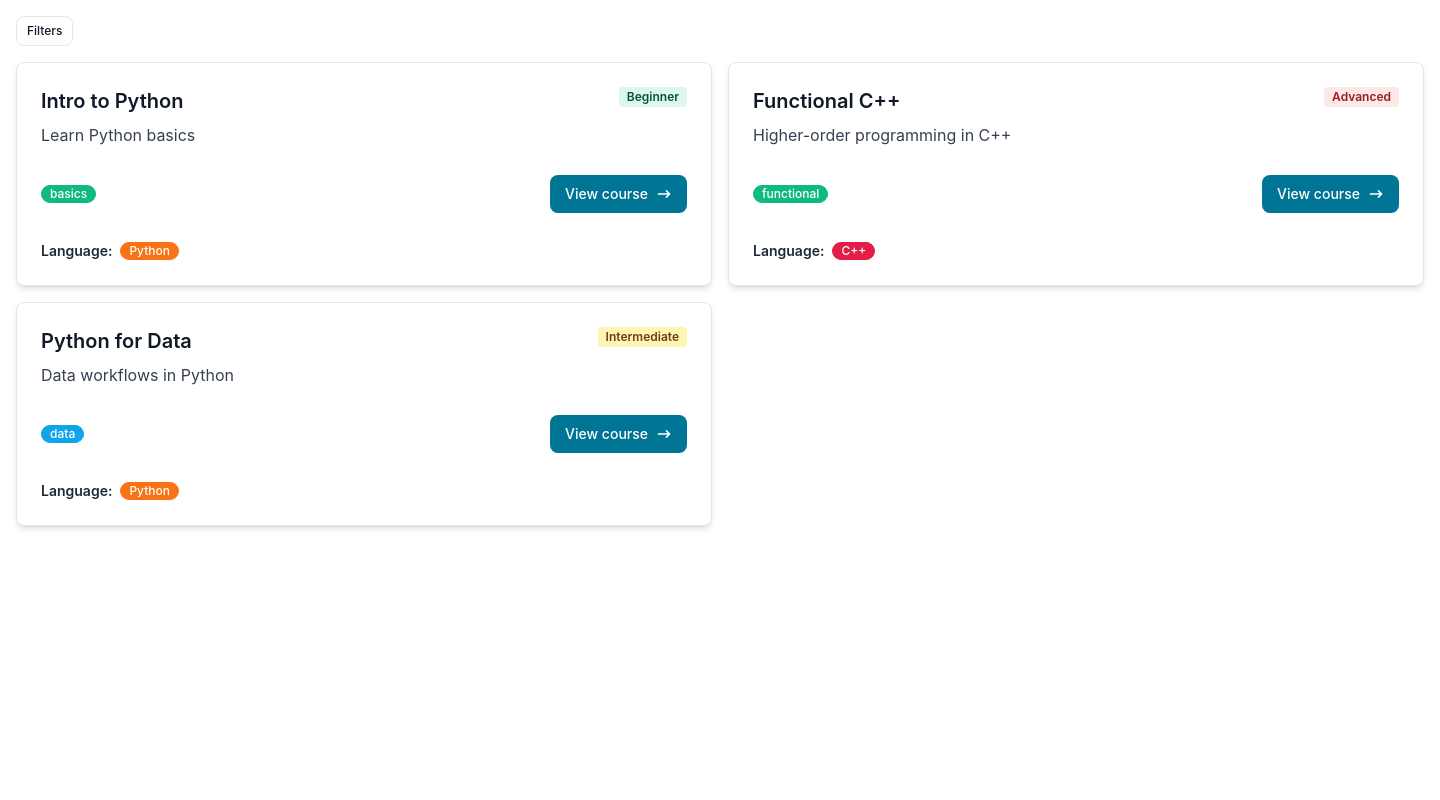
Test: <CoursesFilteringHarness /> › filters courses by search, level, language, and tag
The width and height of the screenshot is (1440, 800).
Check: the link "Intro to Python" is shown, box [41,87,195,115]
Check: the link "Functional C++" is shown, box [753,89,900,113]
Click the button "Filters": (45, 31) [16,16,73,46]
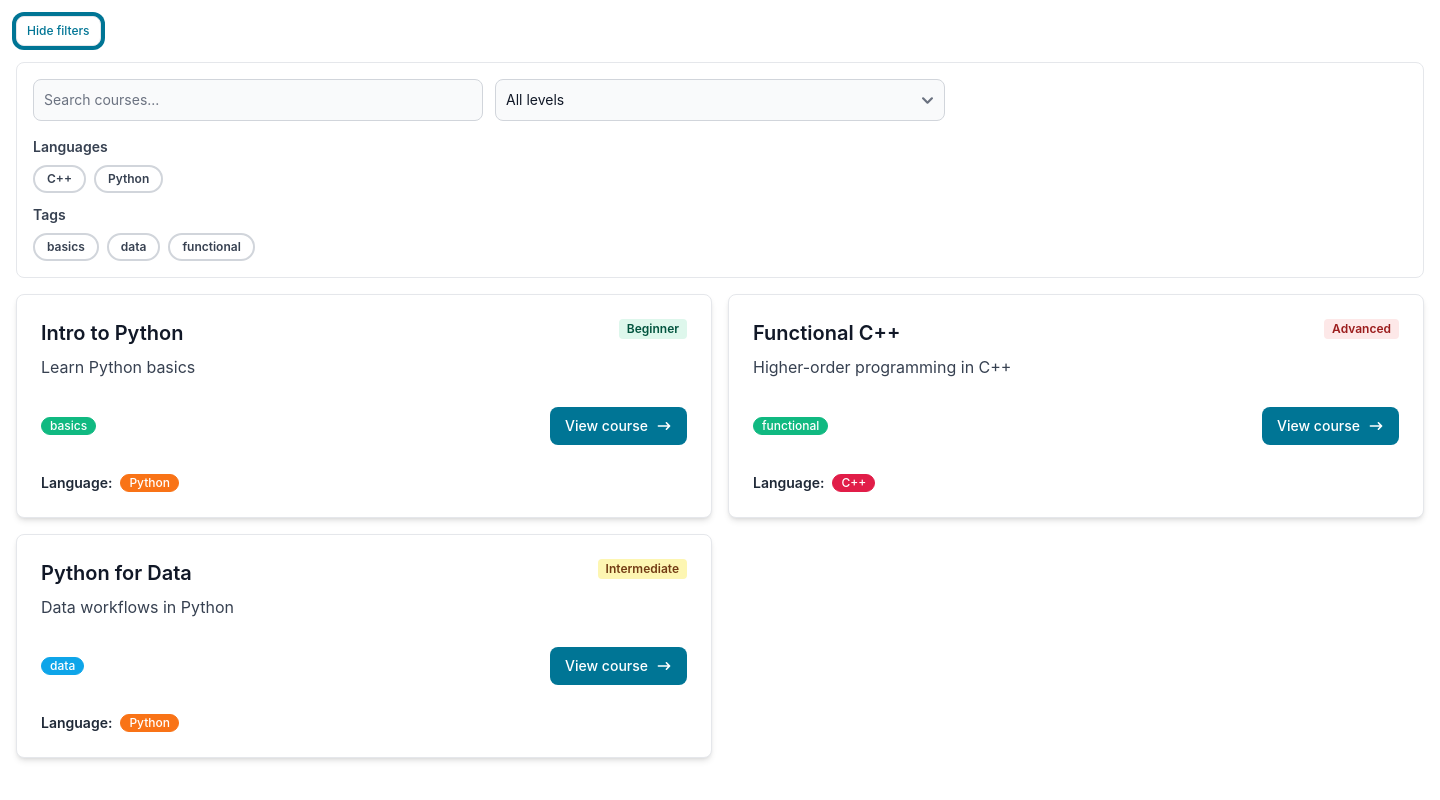
In the field with placeholder "Search courses...": (258, 100) [33,79,483,121], type "python"
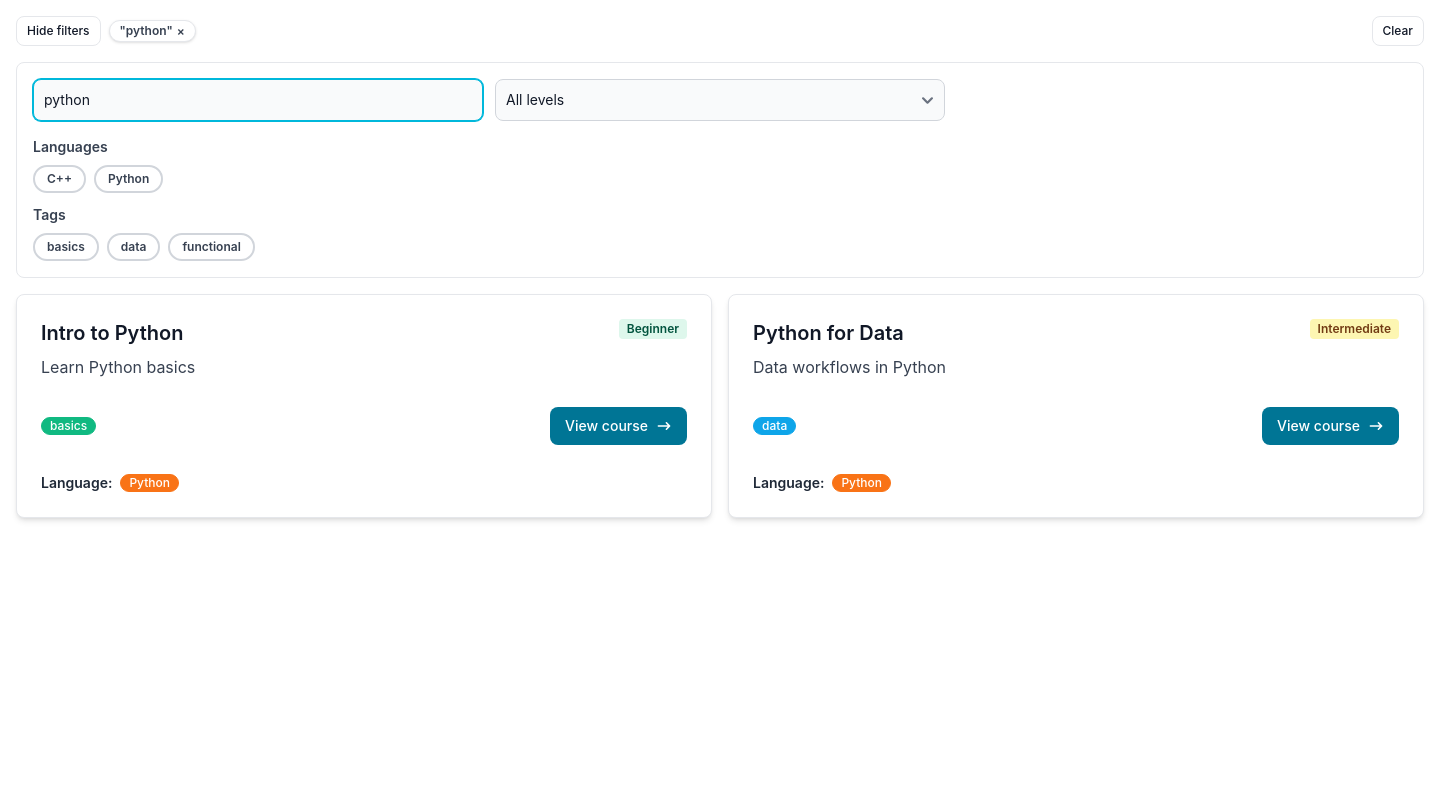
Check: the link "Intro to Python" is shown, box [41,319,195,347]
Check: the link "Functional C++" is gone
Select "Intermediate" in the dropdown: (720, 100) [495,79,945,121]
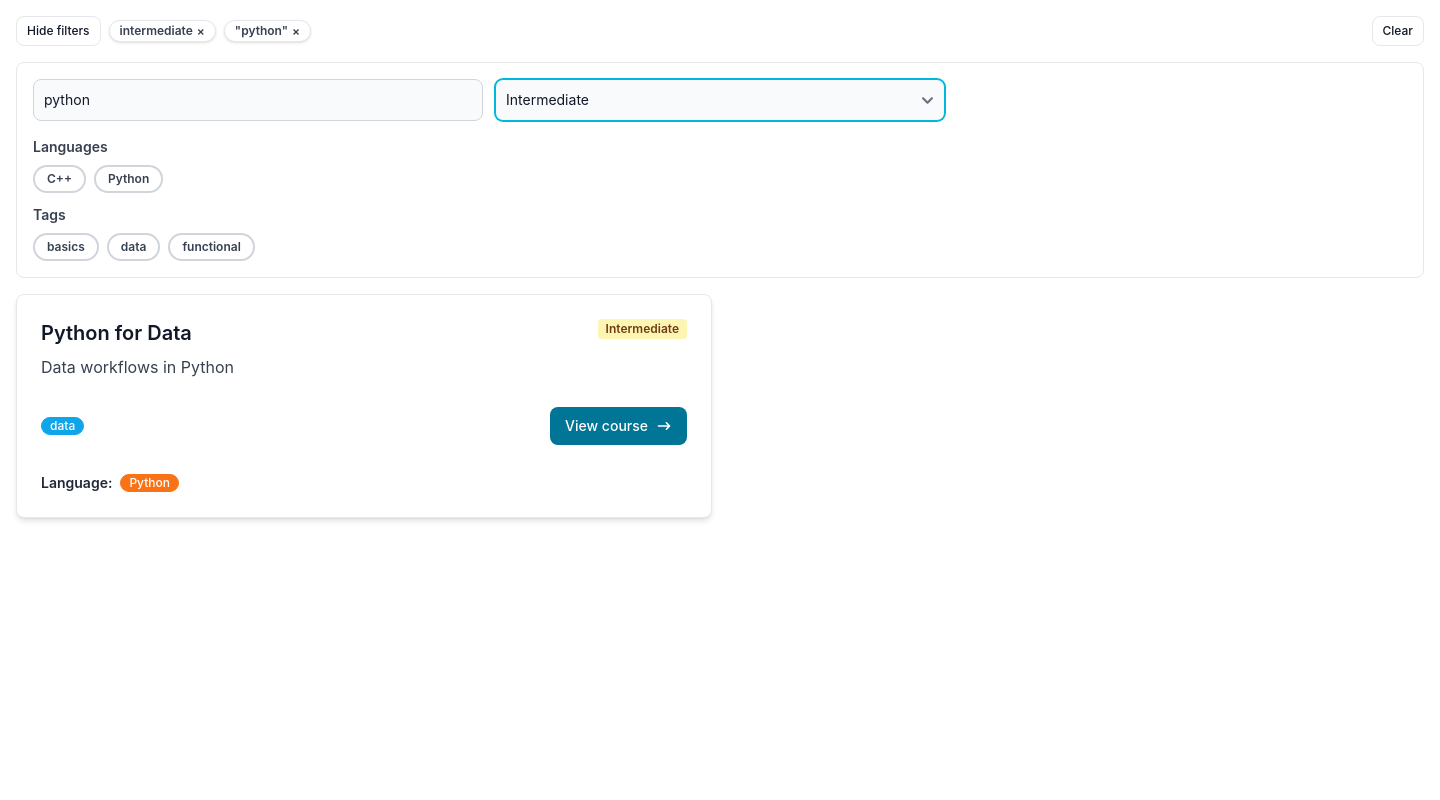
Check: the link "Python for Data" is shown, box [41,321,192,345]
Check: the link "Intro to Python" is gone
Click the button "data" below "Tags": (134, 247) [107,233,161,261]
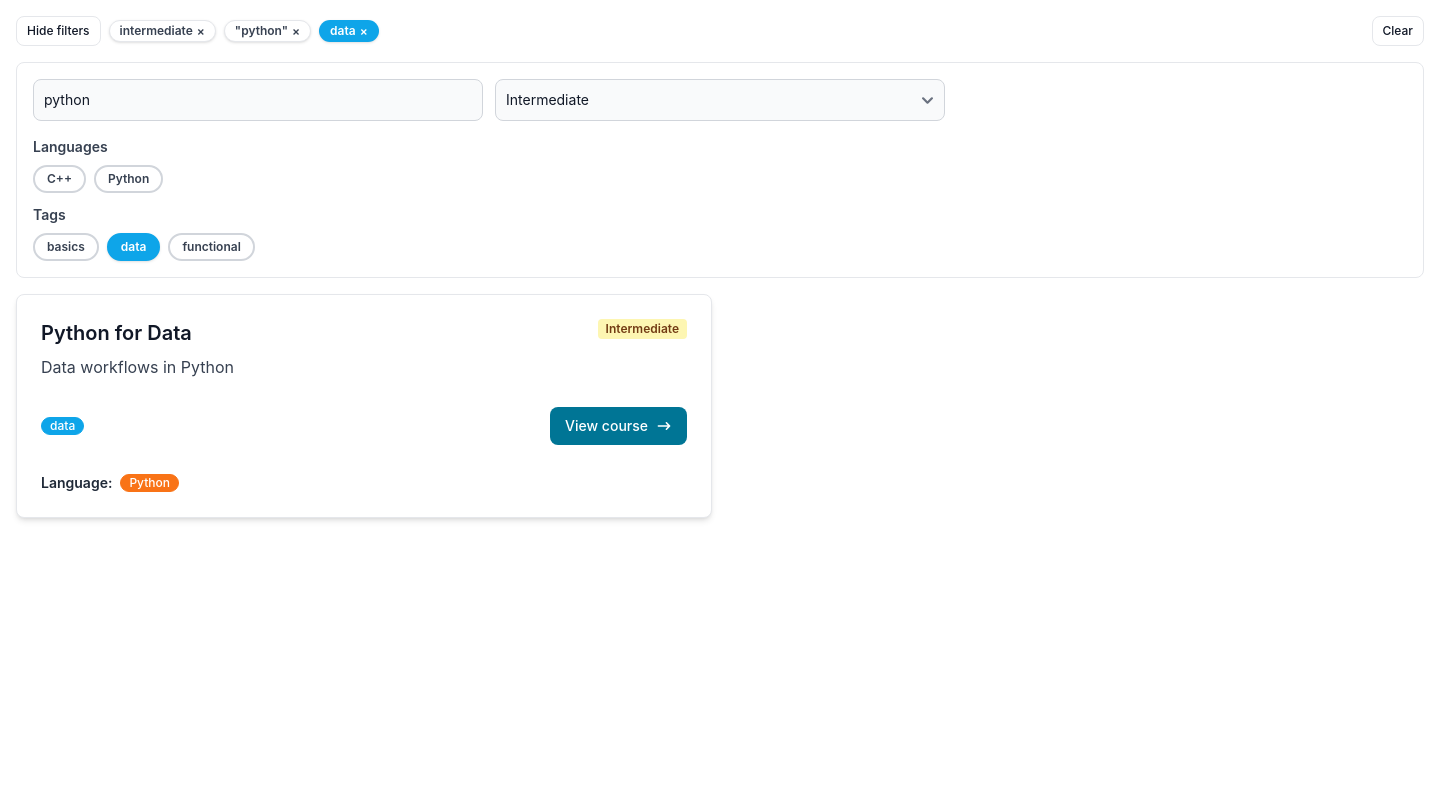
Check: the link "Python for Data" is shown, box [41,321,192,345]
Click the button "Clear": (1399, 31) [1372,16,1425,46]
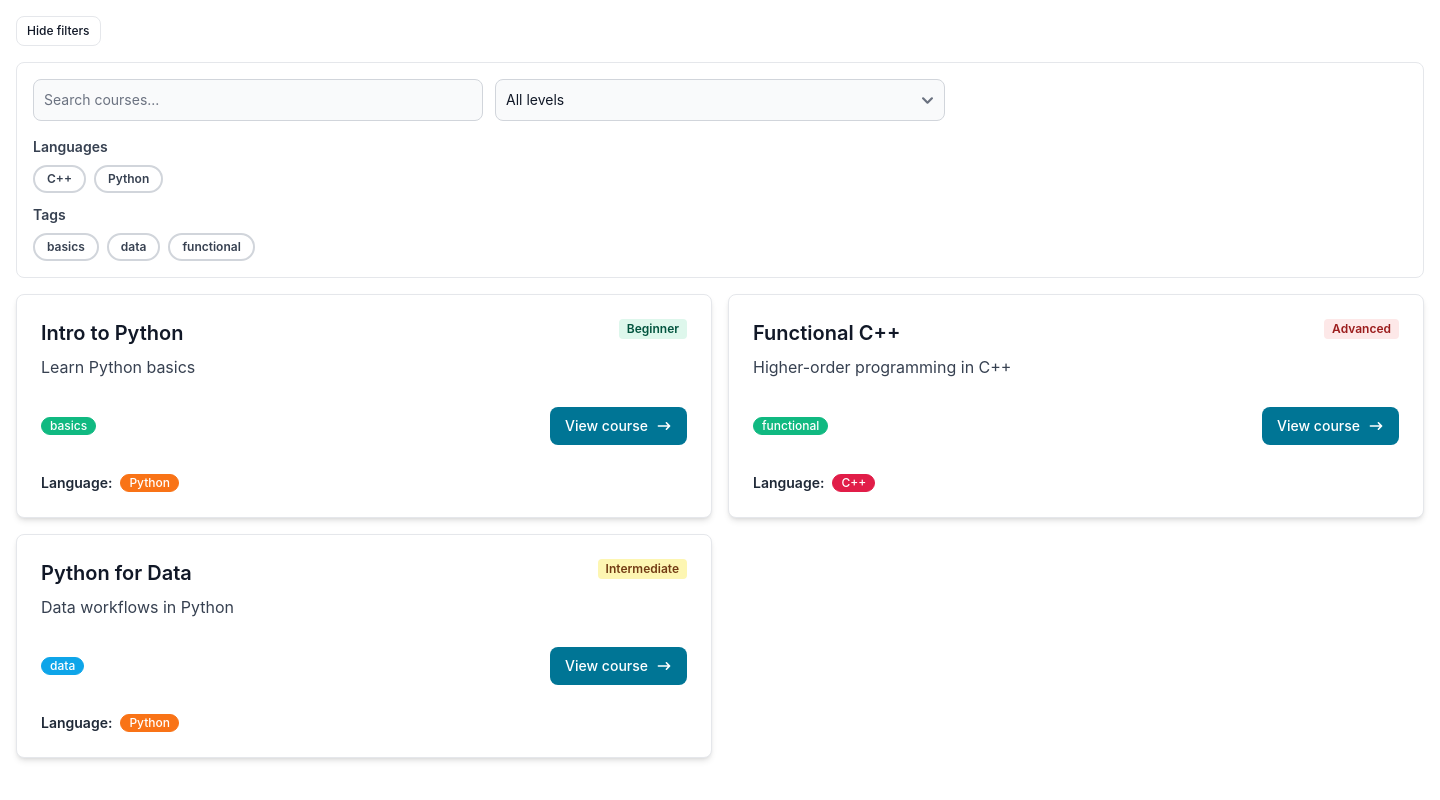
Check: the link "Python for Data" is shown, box [41,561,192,585]
Check: the link "Intro to Python" is shown, box [41,319,195,347]
Check: the link "Functional C++" is shown, box [753,321,900,345]
